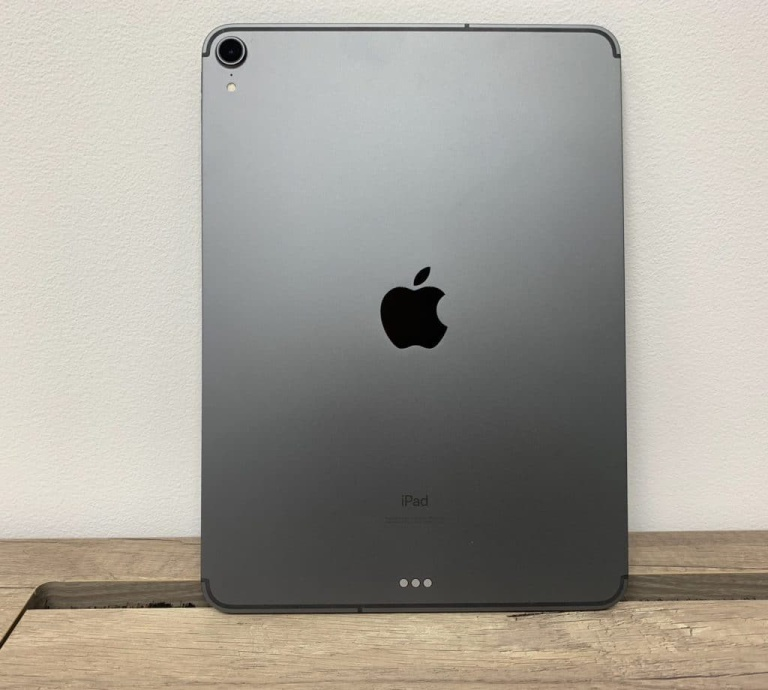apple: (376, 249, 484, 388)
